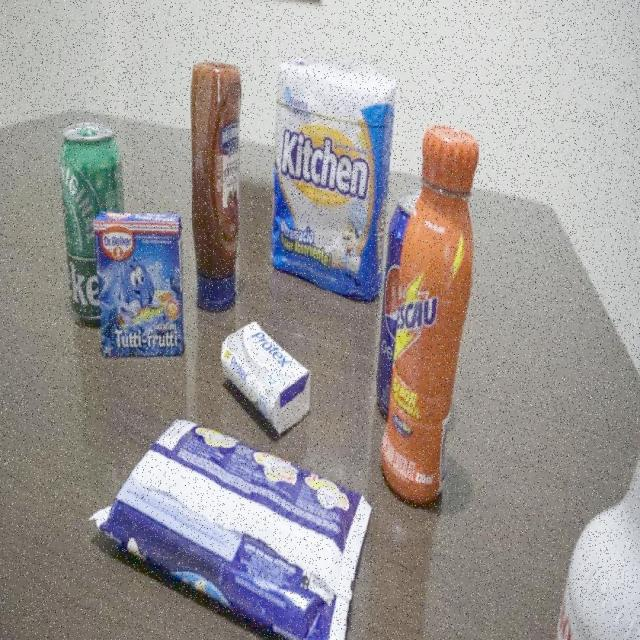BeerCan: (60, 125, 96, 327)
ChocolateMilk: (395, 126, 477, 516)
Gelatine: (97, 210, 186, 358)
Ketchup: (188, 62, 242, 309)
Napkin: (270, 58, 380, 304)
Popcorn: (90, 421, 372, 628)
Soap: (223, 319, 319, 431)
